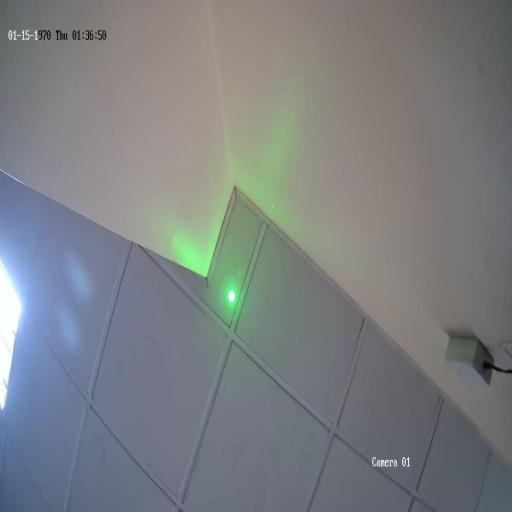laser: (226, 285, 239, 306)
